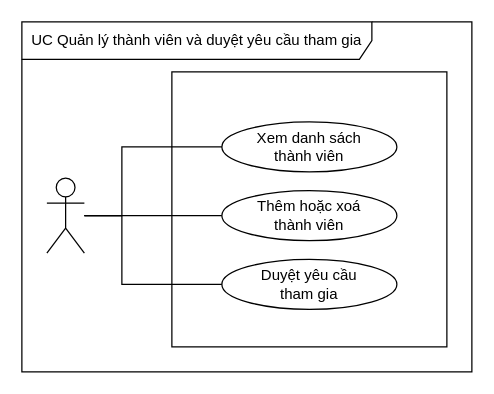
Image size: 494x394. Some labels were removed from this diagram. Here are the shapes that lost their labels. From the top down, the box of each, then its label:
(46, 177, 84, 253): Giảng viên
(171, 71, 447, 347): Hệ thống
